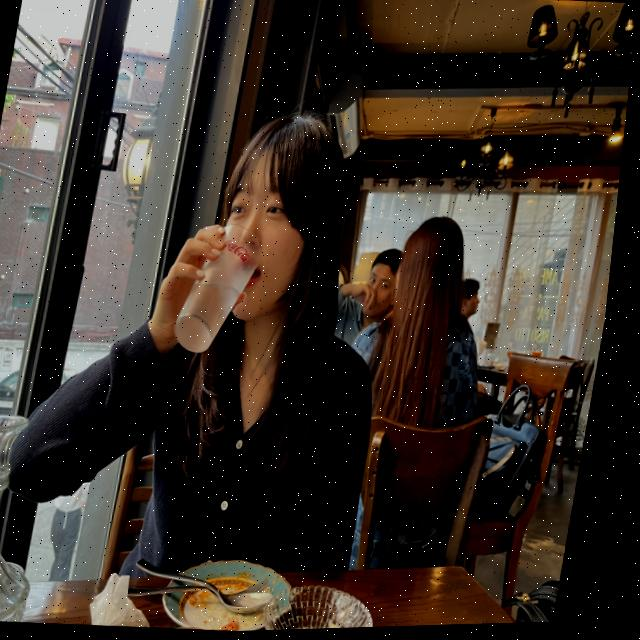eating-person: (0, 80, 453, 639)
